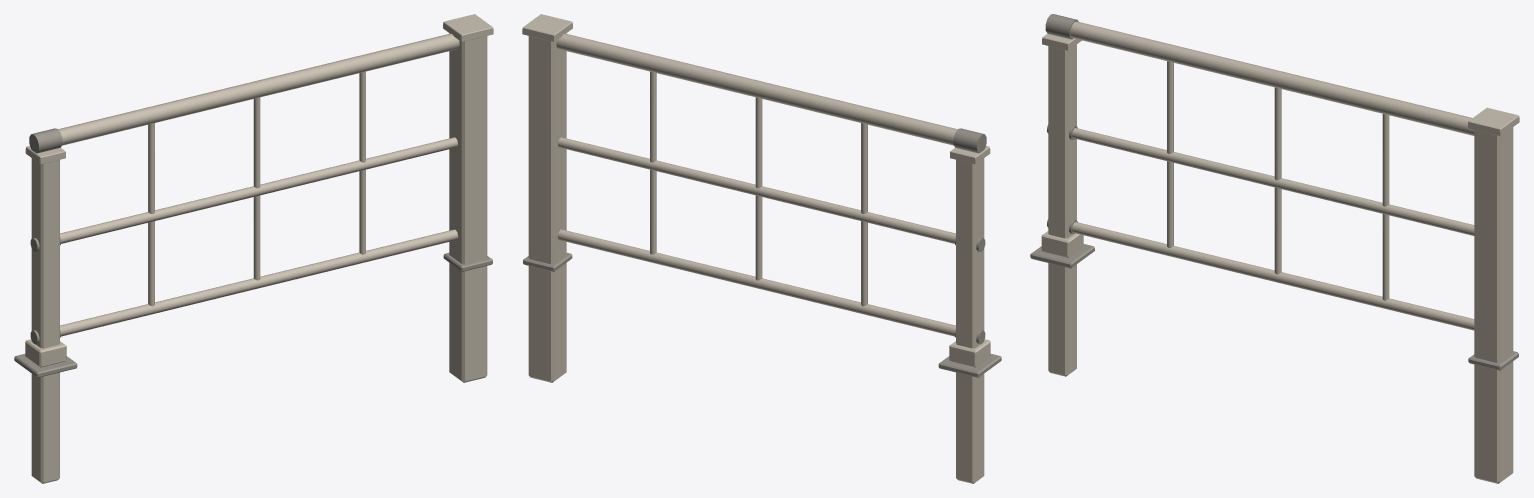
File: seawall-portable.glb
The picture shows the model from 3 angles, left to right: view 1: azimuth 30°, elevation 25°; view 2: azimuth 150°, elevation 25°; view 3: azimuth 330°, elevation 25°; orthographic projection. The views are drawn at different scales.
Parts seen in each view (by area): view 1: seawall.bay.handrail.1, seawall.terminal-unit-fixture.terminal.post.0, seawall.bay.post.0, seawall.bay.balusters.2; view 2: seawall.bay.handrail.1, seawall.terminal-unit-fixture.terminal.post.0, seawall.bay.post.0, seawall.bay.balusters.2; view 3: seawall.bay.handrail.1, seawall.terminal-unit-fixture.terminal.post.0, seawall.bay.post.0, seawall.bay.balusters.2.
Boxes of the visible parts, x1=… form: seawall.bay.handrail.1: x1=29, y1=33, x2=459, y2=344; seawall.terminal-unit-fixture.terminal.post.0: x1=443, y1=14, x2=493, y2=382; seawall.bay.post.0: x1=14, y1=146, x2=77, y2=483; seawall.bay.balusters.2: x1=148, y1=71, x2=365, y2=306; seawall.bay.handrail.1: x1=556, y1=33, x2=986, y2=344; seawall.terminal-unit-fixture.terminal.post.0: x1=522, y1=14, x2=572, y2=382; seawall.bay.post.0: x1=938, y1=146, x2=1001, y2=483; seawall.bay.balusters.2: x1=650, y1=71, x2=867, y2=306; seawall.bay.handrail.1: x1=1045, y1=14, x2=1474, y2=330; seawall.terminal-unit-fixture.terminal.post.0: x1=1468, y1=107, x2=1519, y2=483; seawall.bay.post.0: x1=1030, y1=33, x2=1094, y2=376; seawall.bay.balusters.2: x1=1167, y1=61, x2=1389, y2=300.
Size of the model in its own units: 2.13 by 1.56 by 0.19.
